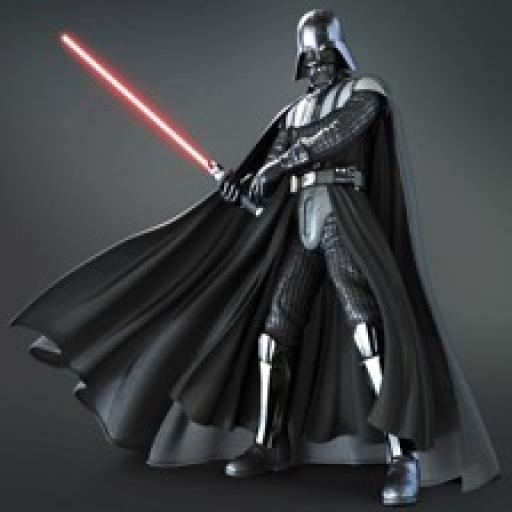human: (194, 4, 444, 506)
sith saber: (57, 32, 265, 217)
